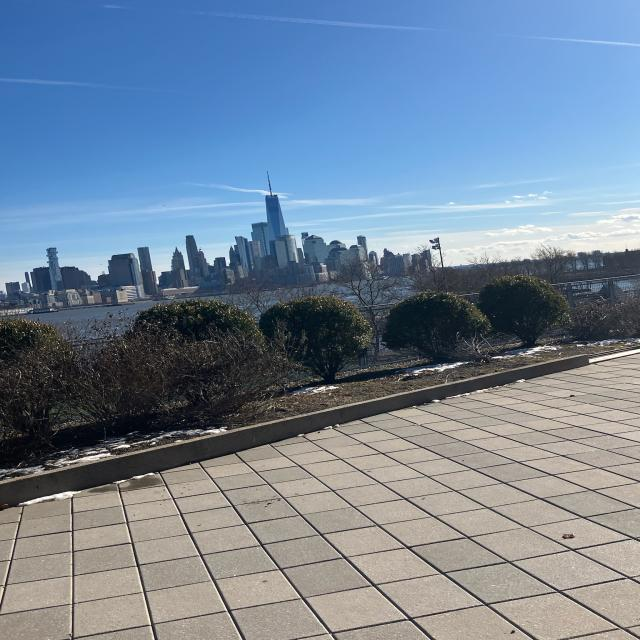WTC: (264, 172, 286, 236)
